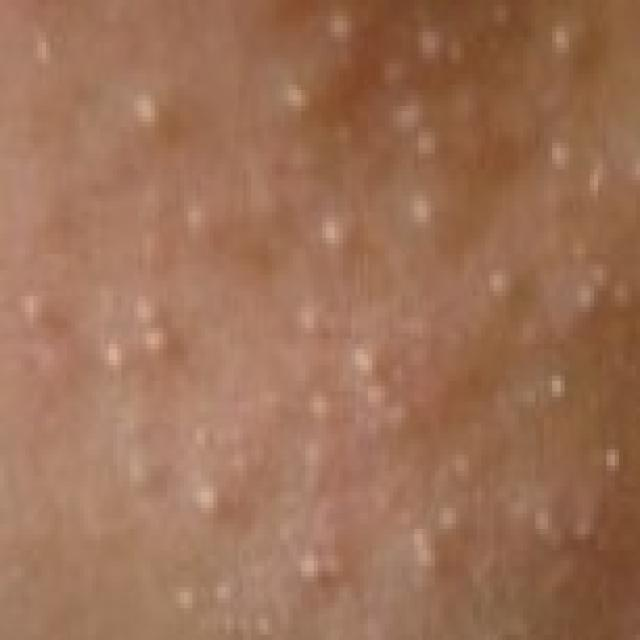whitehead: (0, 12, 634, 621)
